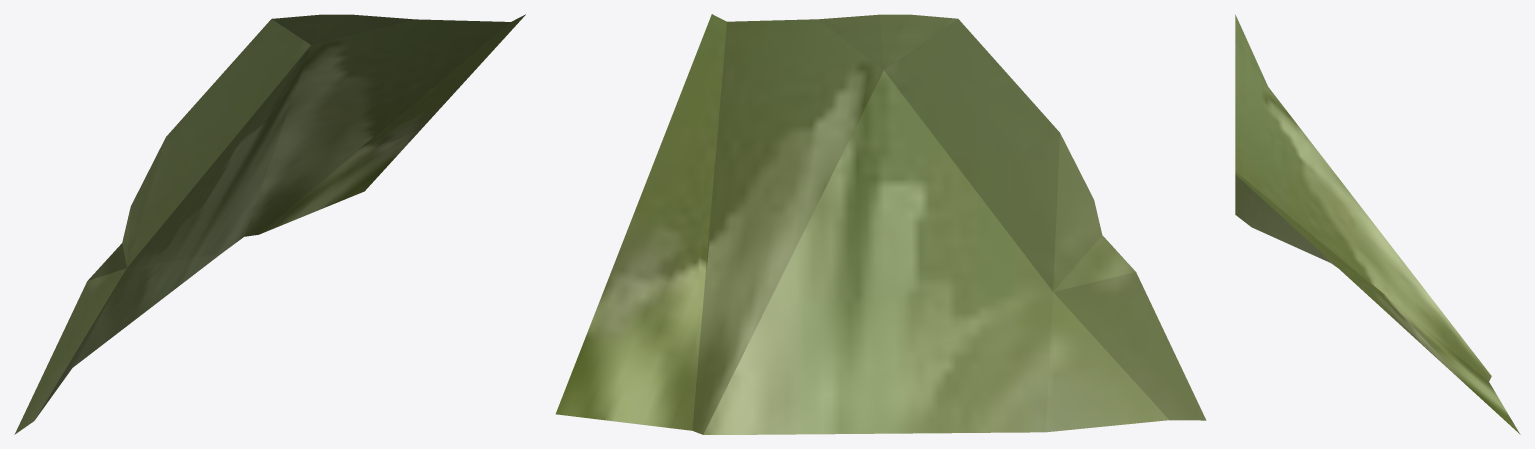
The picture shows the model from 3 angles, left to right: view 1: azimuth 30°, elevation 25°; view 2: azimuth 150°, elevation 25°; view 3: azimuth 270°, elevation 25°; orthographic projection. The views are drawn at different scales.
Size of the model in its own units: 0.7215 by 0.4756 by 0.3951.
1 material, 1 textured.
